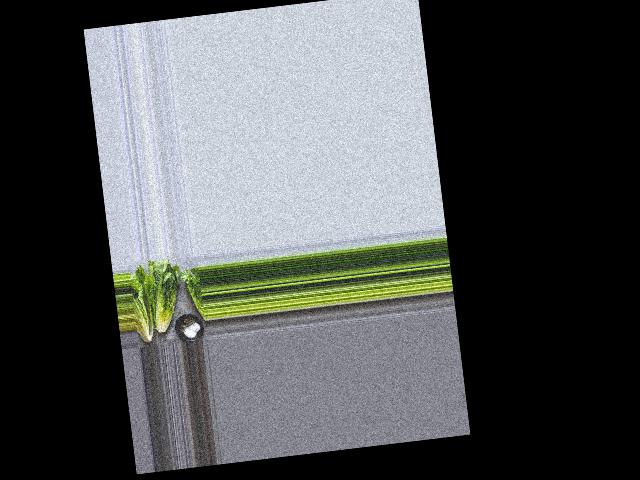lettuce: (130, 269, 158, 347)
